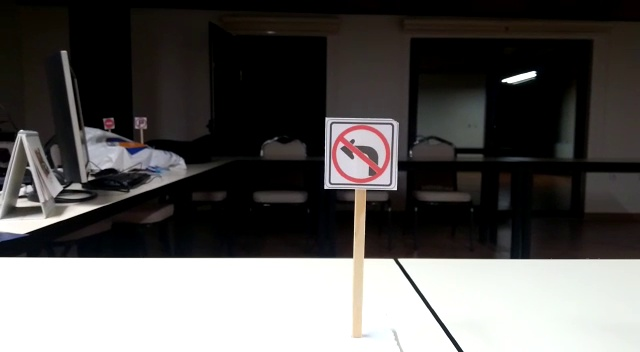sola_donulmez: (329, 120, 395, 186)
